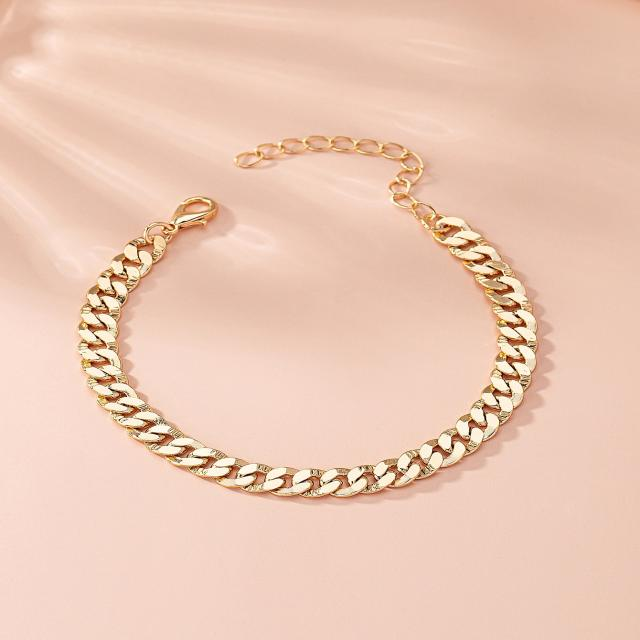bracelet: (37, 76, 611, 550)
